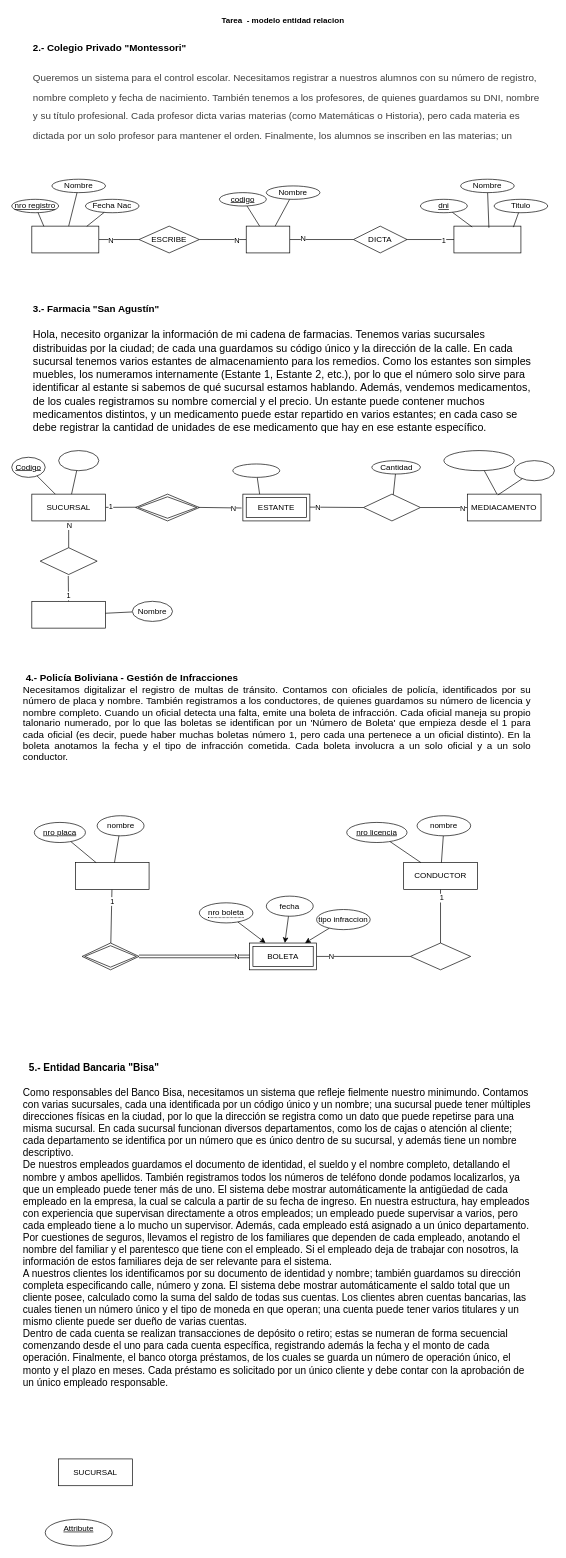
Image size: 566x1558. Some labels were removed from this diagram. Each missing label, with the centre of its shape:
ALMACENA: the point at 391,507
ALUMNO: the point at 65,239
CIUDAD: the point at 68,614
Direccion: the point at 78,460
EMITE: the point at 110,956
INVOLUCRA: the point at 440,956
MATERIA: the point at 268,239
Nombre Comercial: the point at 478,460
Numero: the point at 256,470
OFICIAL: the point at 112,875
PERTENECE: the point at 68,561
Precio: the point at 534,470
PROFESOR: the point at 487,239
TIENE: the point at 167,507
